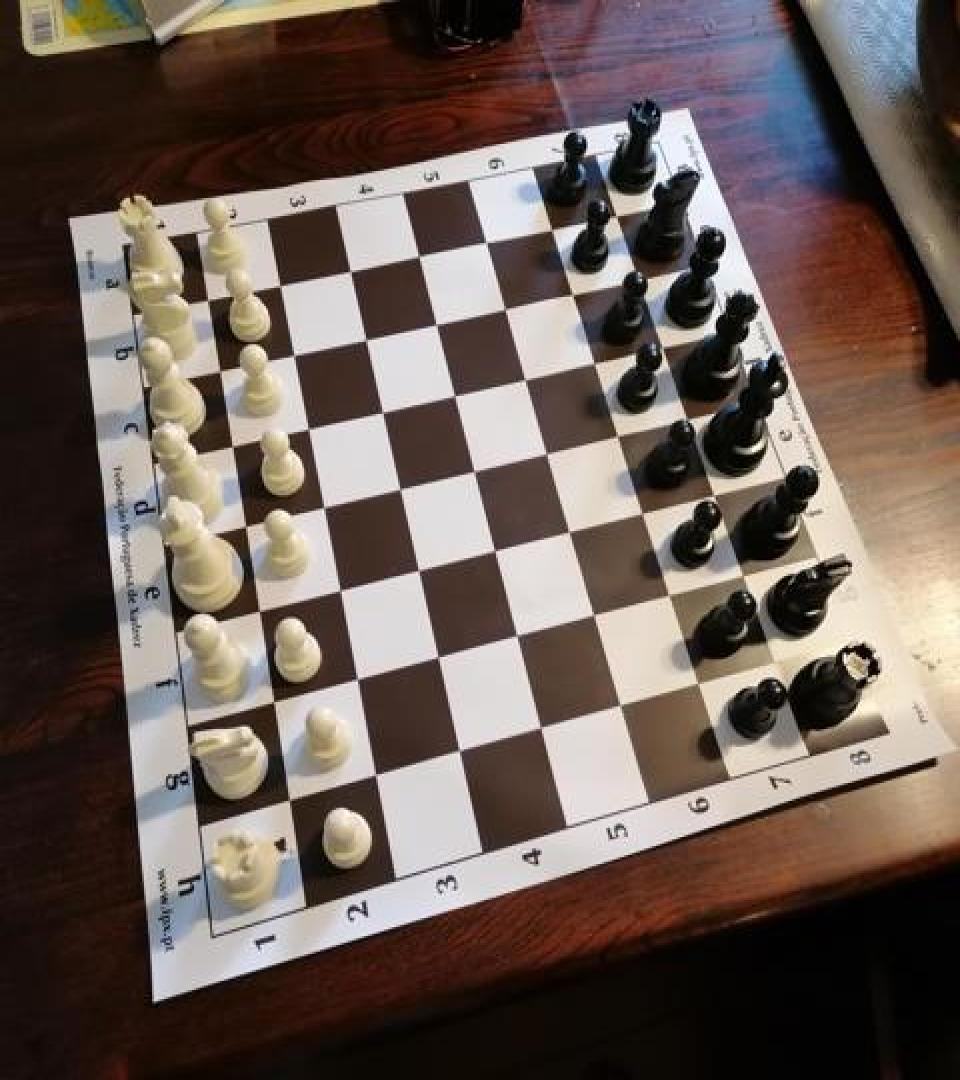xcorner: (604, 200, 634, 234), (538, 212, 568, 246), (472, 225, 502, 259), (403, 238, 433, 272), (334, 252, 364, 286), (262, 266, 292, 300), (189, 280, 219, 314), (627, 264, 657, 298), (560, 278, 590, 312), (491, 291, 521, 325), (421, 306, 451, 340), (350, 322, 380, 356), (276, 336, 306, 370), (201, 352, 231, 386), (651, 332, 681, 366), (582, 346, 612, 380), (512, 362, 542, 396), (440, 378, 470, 412), (367, 394, 397, 428), (291, 410, 321, 444), (214, 428, 244, 462), (676, 404, 706, 438), (606, 420, 636, 454), (534, 436, 564, 470), (461, 454, 491, 488), (385, 471, 415, 505), (307, 490, 337, 524), (227, 508, 257, 542), (704, 479, 734, 513), (632, 497, 662, 531), (558, 516, 588, 550), (482, 534, 512, 568), (404, 554, 434, 588), (324, 574, 354, 608), (242, 595, 272, 629), (733, 560, 763, 594), (659, 580, 689, 614), (505, 621, 535, 655), (425, 642, 455, 676), (258, 686, 288, 720), (764, 647, 794, 681), (688, 668, 718, 702), (610, 690, 640, 724), (530, 713, 560, 747), (447, 736, 477, 770), (362, 760, 392, 794), (275, 785, 305, 819), (583, 601, 613, 634), (343, 664, 373, 697)
